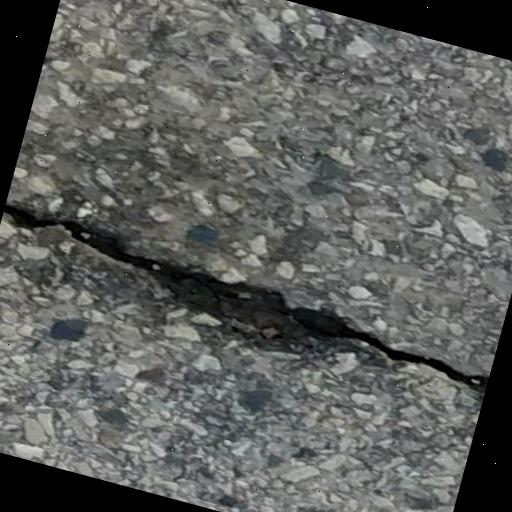spalling: (4, 193, 485, 401)
